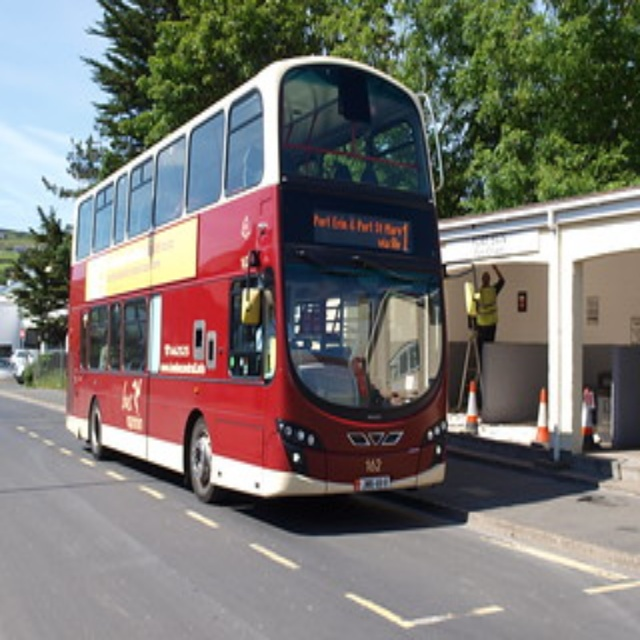Bus: (62, 56, 450, 504)
